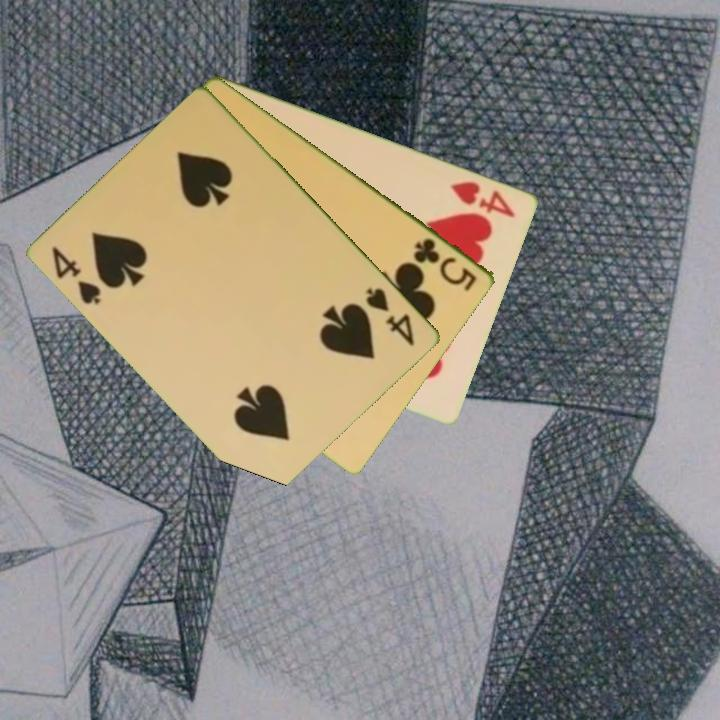4h: (446, 177, 519, 221)
4s: (362, 283, 418, 349), (49, 242, 105, 308)
5c: (410, 234, 481, 294)
